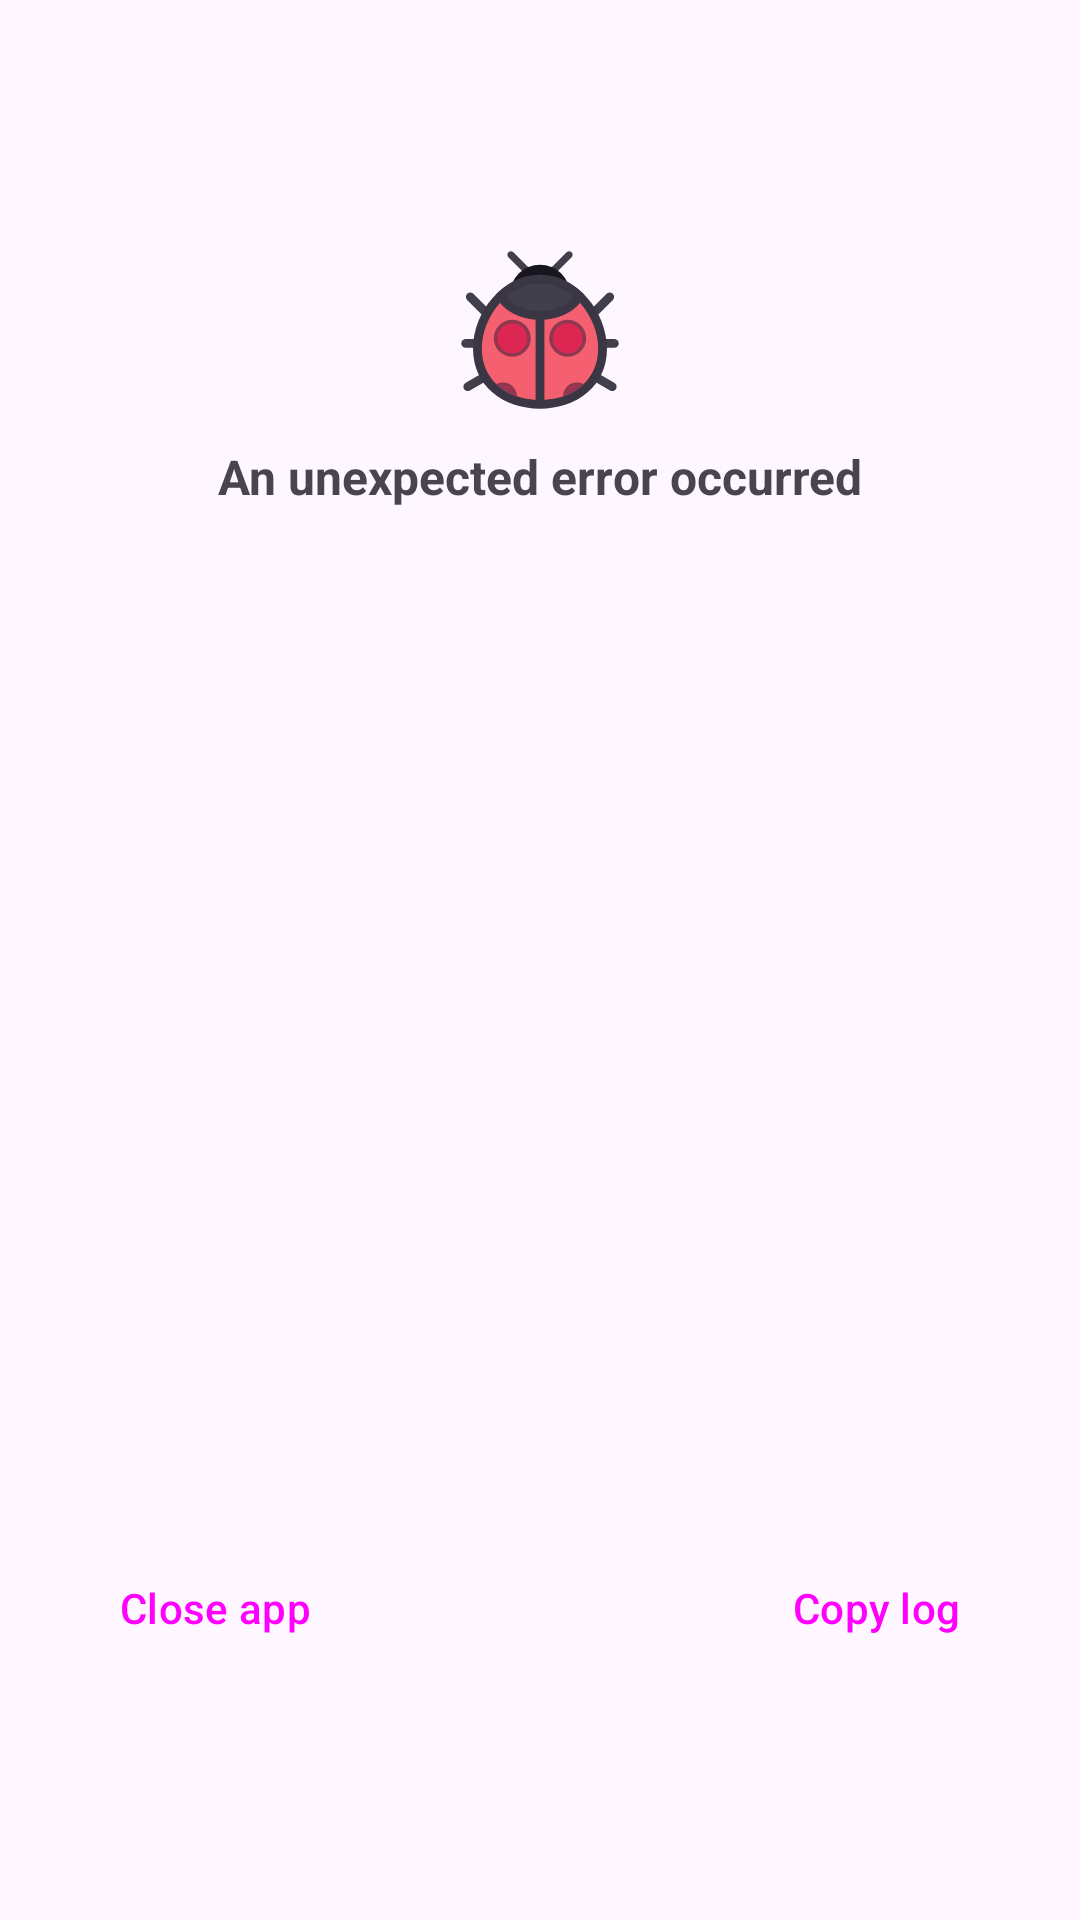

Point at icon controls on the screen. Image size 1080*1920, points as (x,y).
crash error: (540,330)
